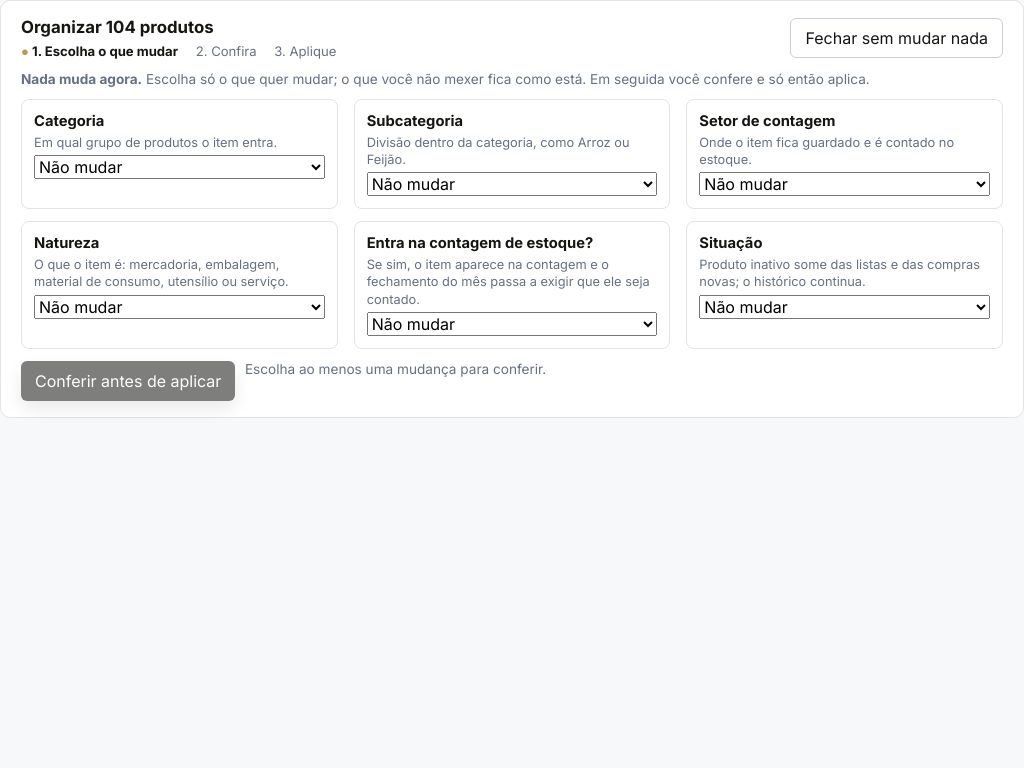
Scenario: LoteDeProdutos: passo 1, escolher › natureza escolhida mostra a descrição dela
The image size is (1024, 768).
Select "Insumo ou mercadoria" in the dropdown labelled "Natureza": (179, 307) x1=34 y1=295 x2=325 y2=319
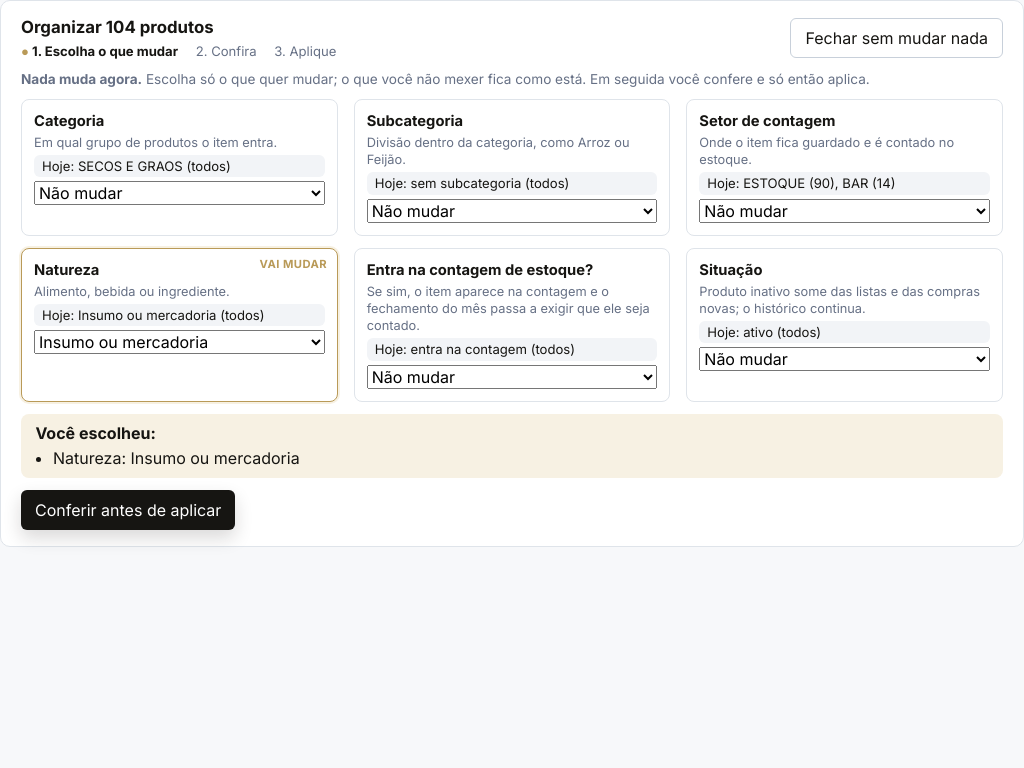
Check: the text "Alimento, bebida ou ingrediente." is shown, box x1=34 y1=284 x2=230 y2=298
